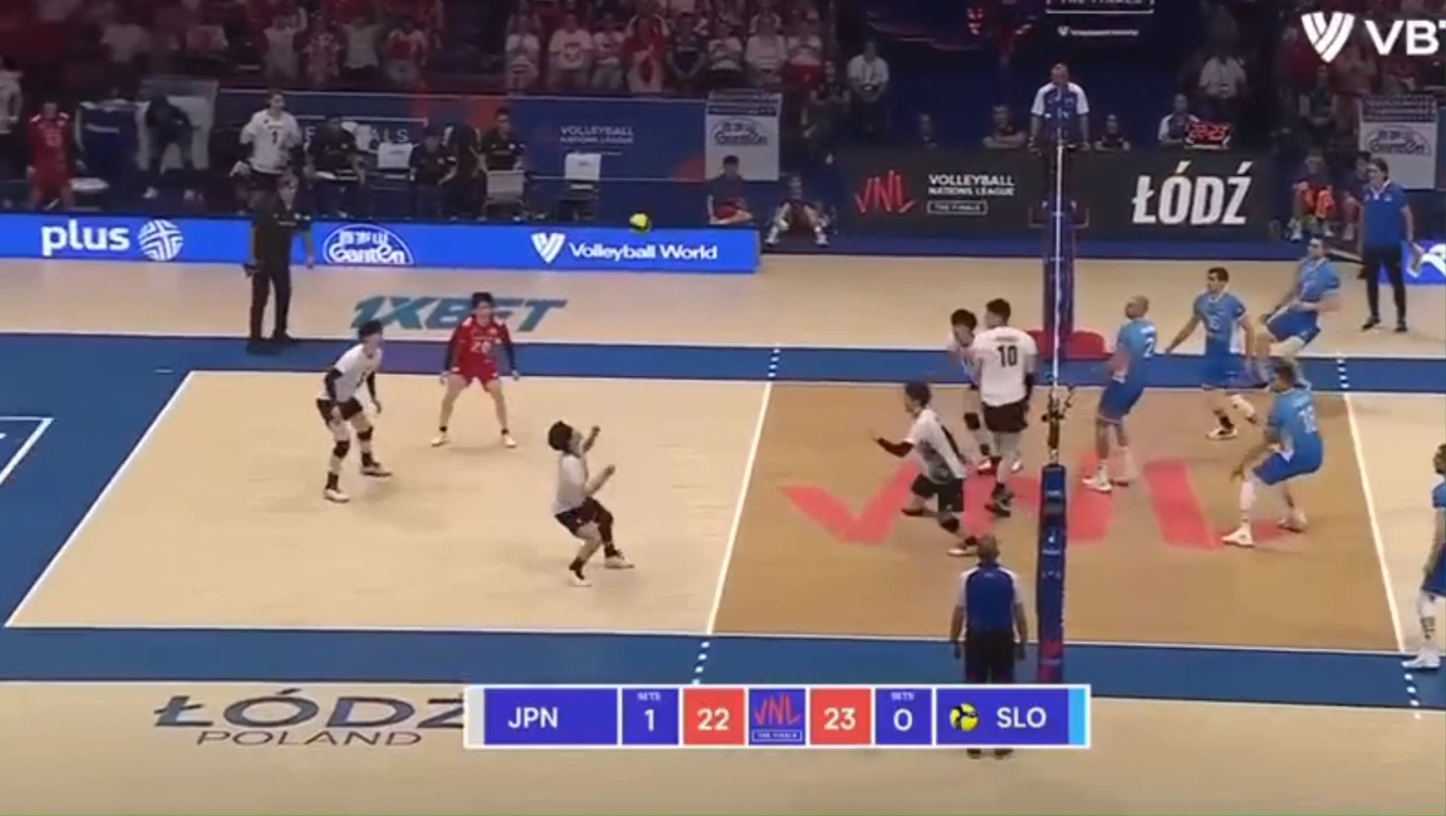ball: (628, 212, 651, 233)
player: (1222, 362, 1324, 546), (1164, 266, 1260, 440), (1083, 295, 1157, 493), (1252, 238, 1339, 385), (1402, 444, 1445, 671)
player 1: (874, 382, 973, 554), (547, 420, 631, 586), (432, 292, 519, 447), (316, 320, 390, 502), (969, 298, 1037, 471), (962, 394, 1000, 470), (947, 308, 978, 391)
referee: (244, 173, 314, 351), (949, 536, 1028, 684), (1027, 63, 1089, 233), (1356, 156, 1414, 332)
